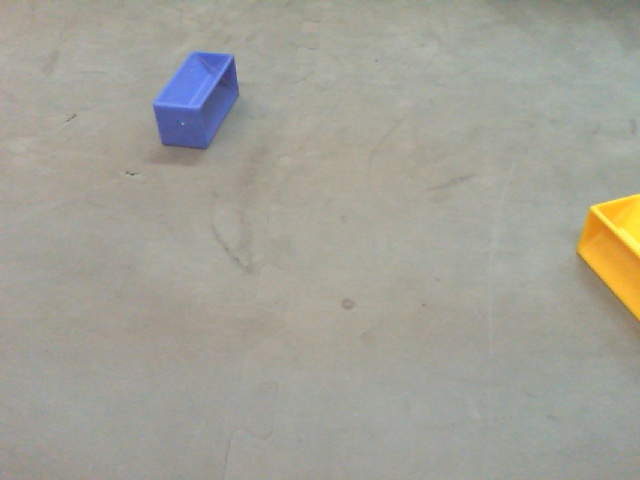BlueSample: (149, 49, 247, 154)
YellowSample: (574, 183, 640, 324)
